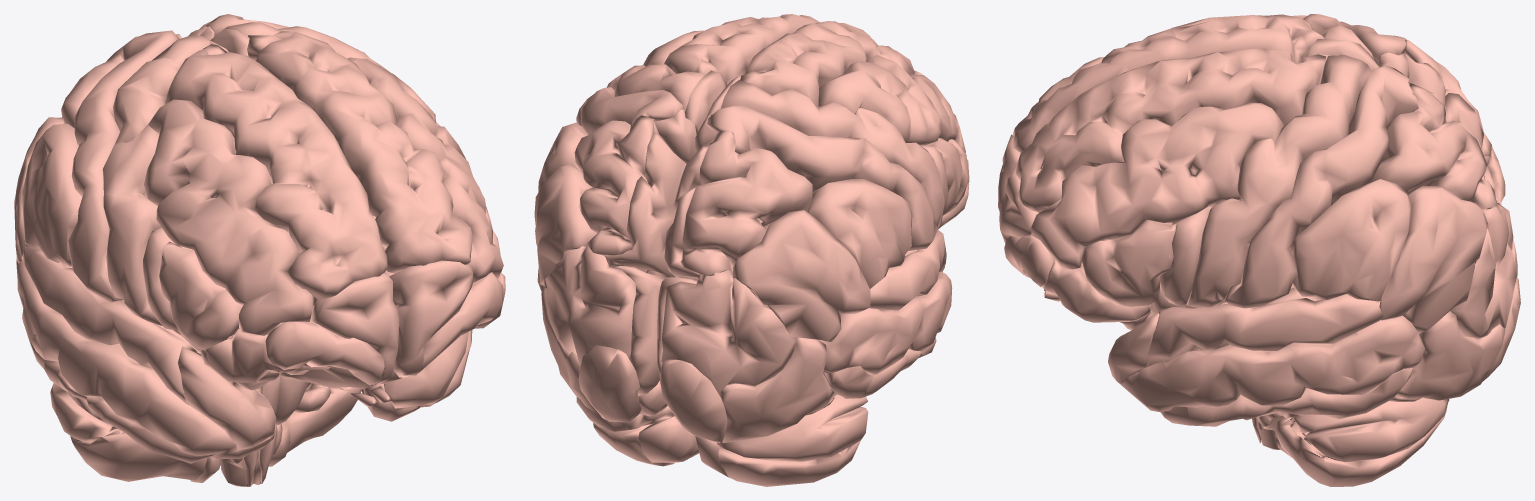
The model's file is brain.glb.
3 renders of one model, left to right at view 1: azimuth 30°, elevation 25°; view 2: azimuth 150°, elevation 25°; view 3: azimuth 270°, elevation 25°, orthographic. The views are drawn at different scales.
Parts seen in each view (by area): view 1: Allen_superior_frontal_gyrus_L, Allen_middle_frontal_gyrus_L, Allen_superior_frontal_gyrus_R, Allen_middle_temporal_gyrus_L, Allen_precentral_gyrus_L, Allen_postcentral_gyrus_L, Allen_superior_temporal_gyrus_L, Allen_middle_frontal_gyrus_R, Allen_supramarginal_gyrus_L, Allen_rostral_gyrus_R, Allen_lateral_hemisphere_of_cerebellum_L, Allen_inferior_frontal_gyrus_triangular_part_L (+18 smaller); view 2: Allen_angular_gyrus_L, Allen_supraparietal_lobule_L, Allen_superior_occipital_gyrus_L, Allen_postcentral_gyrus_L, Allen_lateral_hemisphere_of_cerebellum_L, Allen_superior_occipital_gyrus_R, Allen_precentral_gyrus_L, Allen_supraparietal_lobule_R, Allen_supramarginal_gyrus_L, Allen_middle_frontal_gyrus_L, Allen_superior_frontal_gyrus_L, Allen_middle_temporal_gyrus_L (+24 smaller); view 3: Allen_middle_frontal_gyrus_R, Allen_superior_frontal_gyrus_R, Allen_middle_temporal_gyrus_R, Allen_precentral_gyrus_R, Allen_postcentral_gyrus_R, Allen_supramarginal_gyrus_R, Allen_angular_gyrus_R, Allen_superior_temporal_gyrus_R, Allen_lateral_hemisphere_of_cerebellum_R, Allen_superior_frontal_gyrus_L, Allen_supraparietal_lobule_R, Allen_inferior_frontal_gyrus_triangular_part_R (+16 smaller).
Boxes of the visible parts, left/top/right/bottom form: Allen_superior_frontal_gyrus_L: left=165, top=44, right=387, bottom=305; Allen_middle_frontal_gyrus_L: left=144, top=99, right=314, bottom=335; Allen_superior_frontal_gyrus_R: left=247, top=31, right=472, bottom=273; Allen_middle_temporal_gyrus_L: left=17, top=260, right=238, bottom=456; Allen_precentral_gyrus_L: left=102, top=35, right=210, bottom=325; Allen_postcentral_gyrus_L: left=68, top=30, right=178, bottom=302; Allen_superior_temporal_gyrus_L: left=21, top=246, right=197, bottom=404; Allen_middle_frontal_gyrus_R: left=348, top=57, right=503, bottom=282; Allen_supramarginal_gyrus_L: left=20, top=124, right=82, bottom=266; Allen_rostral_gyrus_R: left=389, top=260, right=473, bottom=377; Allen_lateral_hemisphere_of_cerebellum_L: left=50, top=383, right=207, bottom=481; Allen_inferior_frontal_gyrus_triangular_part_L: left=159, top=241, right=242, bottom=350; Allen_angular_gyrus_L: left=732, top=210, right=870, bottom=342; Allen_supraparietal_lobule_L: left=680, top=131, right=812, bottom=275; Allen_superior_occipital_gyrus_L: left=661, top=269, right=797, bottom=394; Allen_postcentral_gyrus_L: left=707, top=105, right=937, bottom=250; Allen_lateral_hemisphere_of_cerebellum_L: left=717, top=394, right=868, bottom=486; Allen_superior_occipital_gyrus_R: left=545, top=245, right=635, bottom=365; Allen_precentral_gyrus_L: left=720, top=80, right=944, bottom=228; Allen_supraparietal_lobule_R: left=574, top=115, right=654, bottom=256; Allen_supramarginal_gyrus_L: left=807, top=179, right=912, bottom=288; Allen_middle_frontal_gyrus_L: left=818, top=55, right=965, bottom=152; Allen_superior_frontal_gyrus_L: left=740, top=21, right=922, bottom=106; Allen_middle_temporal_gyrus_L: left=820, top=271, right=952, bottom=374; Allen_middle_frontal_gyrus_R: left=1031, top=102, right=1283, bottom=269; Allen_superior_frontal_gyrus_R: left=1015, top=48, right=1325, bottom=212; Allen_middle_temporal_gyrus_R: left=1121, top=315, right=1424, bottom=411; Allen_precentral_gyrus_R: left=1186, top=55, right=1371, bottom=307; Allen_postcentral_gyrus_R: left=1225, top=65, right=1418, bottom=308; Allen_supramarginal_gyrus_R: left=1290, top=179, right=1411, bottom=301; Allen_angular_gyrus_R: left=1377, top=185, right=1487, bottom=333; Allen_superior_temporal_gyrus_R: left=1146, top=294, right=1383, bottom=367; Allen_lateral_hemisphere_of_cerebellum_R: left=1266, top=397, right=1448, bottom=486; Allen_superior_frontal_gyrus_L: left=1012, top=14, right=1324, bottom=152; Allen_supraparietal_lobule_R: left=1367, top=83, right=1497, bottom=209; Allen_inferior_frontal_gyrus_triangular_part_R: left=1081, top=220, right=1176, bottom=306.
Size of the model in its own units: 0.1359 by 0.146 by 0.1668.
